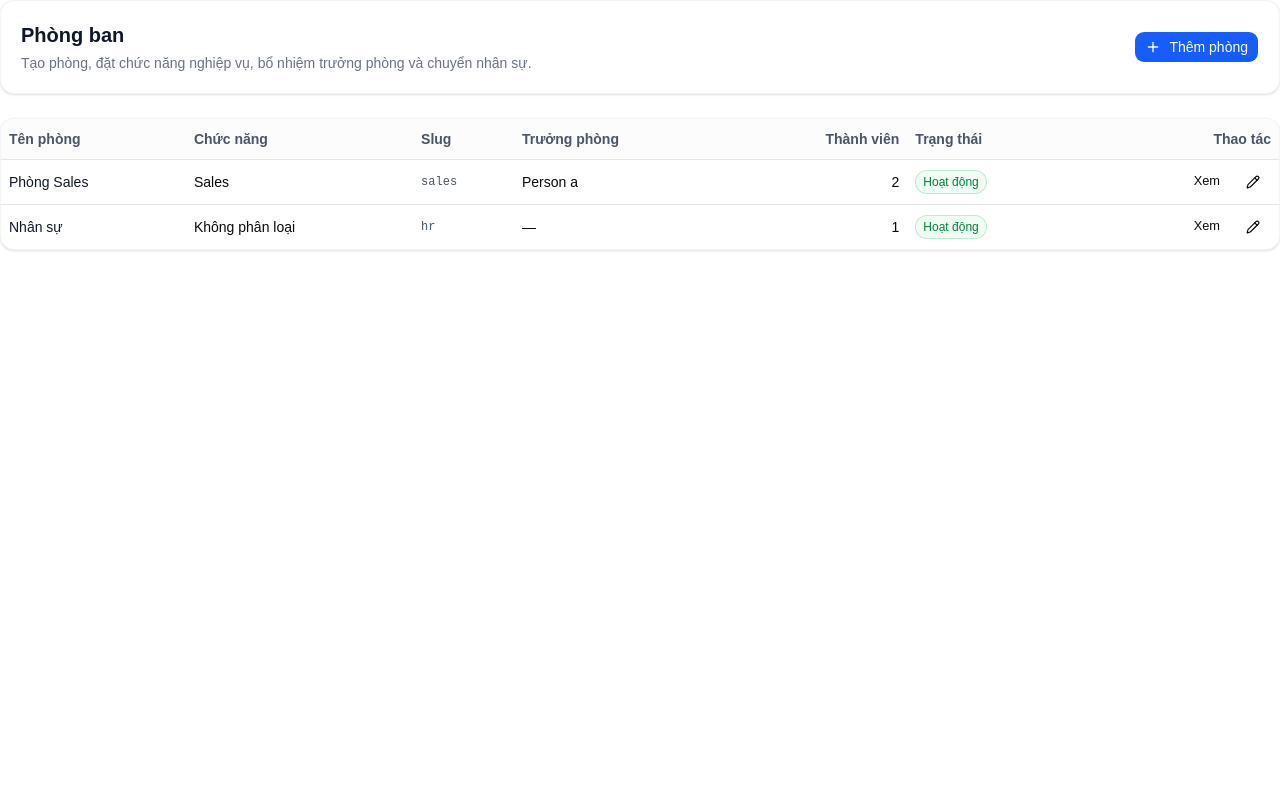
it: DepartmentsPage › the unit’s people › shows the head, the members and the slug
The width and height of the screenshot is (1280, 800).
Click the button "Xem" in the row of "Phòng Sales": (1207, 182) [1183,168,1231,196]
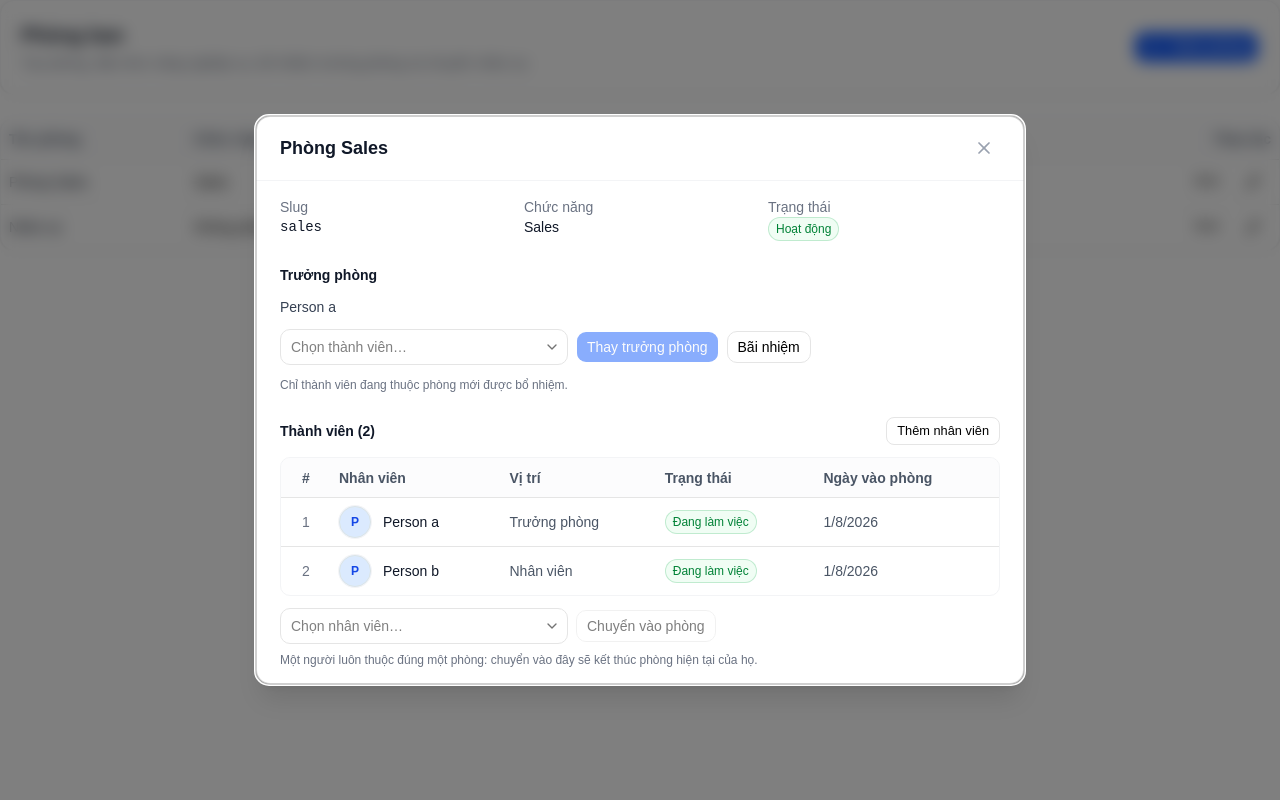
Expected: the text "Person a" is shown 2 times, [280,299,336,315]; [383,512,439,532]
Expected: the link "Person b" is shown, [383,561,439,581]
Expected: the heading "Thành viên (2)" is shown, [280,421,375,441]
